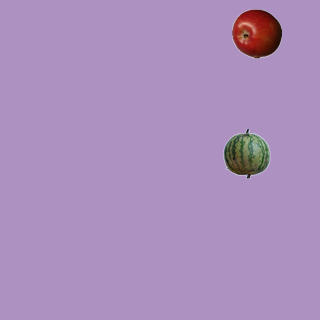Apple Braeburn: (231, 8, 281, 58)
Watermelon: (221, 128, 271, 178)
